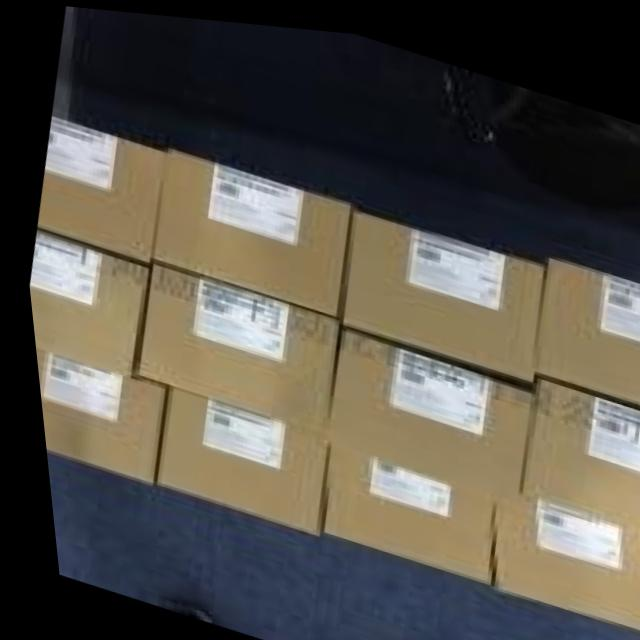box: (127, 258, 336, 429), (336, 200, 539, 375), (315, 318, 529, 484), (148, 144, 342, 311), (309, 429, 485, 576), (142, 382, 319, 528), (478, 476, 640, 620), (512, 361, 640, 520), (24, 228, 147, 377), (28, 347, 161, 484), (36, 115, 161, 258), (527, 247, 640, 395)
